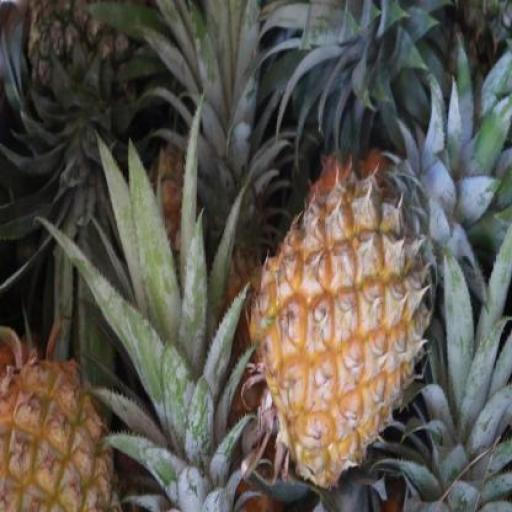Pineapple - v8 v1: (244, 164, 446, 484)
